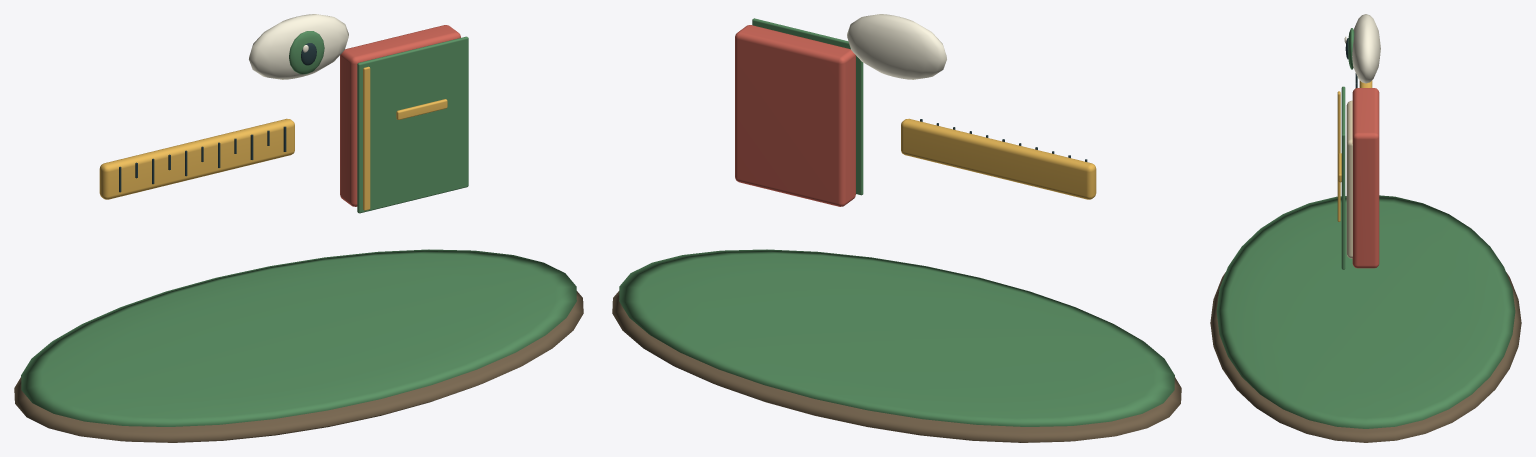
File: complete-second-science-learning.glb
The picture shows the model from 3 angles, left to right: view 1: azimuth 30°, elevation 25°; view 2: azimuth 150°, elevation 25°; view 3: azimuth 270°, elevation 25°; orthographic projection. The views are drawn at different scales.
Parts seen in each view (by area): view 1: complete-second-science-learning_surface_01, complete-second-science-learning_surface_00, complete-second-science-learning_surface_02, complete-second-science-learning_surface_04, complete-second-science-learning_surface_06, complete-second-science-learning_surface_03; view 2: complete-second-science-learning_surface_01, complete-second-science-learning_surface_04, complete-second-science-learning_surface_00, complete-second-science-learning_surface_02, complete-second-science-learning_surface_06; view 3: complete-second-science-learning_surface_01, complete-second-science-learning_surface_00, complete-second-science-learning_surface_04, complete-second-science-learning_surface_06, complete-second-science-learning_surface_05, complete-second-science-learning_surface_02.
Part boxes in pixels (x1,y1,x2,y2): complete-second-science-learning_surface_01: (21, 31, 576, 426); complete-second-science-learning_surface_00: (14, 291, 583, 442); complete-second-science-learning_surface_02: (99, 66, 447, 210); complete-second-science-learning_surface_04: (340, 25, 460, 206); complete-second-science-learning_surface_06: (249, 14, 348, 79); complete-second-science-learning_surface_03: (119, 43, 316, 192); complete-second-science-learning_surface_01: (619, 18, 1174, 426); complete-second-science-learning_surface_04: (735, 25, 855, 206); complete-second-science-learning_surface_00: (612, 291, 1181, 442); complete-second-science-learning_surface_02: (901, 118, 1096, 199); complete-second-science-learning_surface_06: (847, 14, 946, 79); complete-second-science-learning_surface_01: (1216, 28, 1515, 428); complete-second-science-learning_surface_00: (1210, 272, 1521, 442); complete-second-science-learning_surface_04: (1352, 88, 1379, 268); complete-second-science-learning_surface_06: (1344, 14, 1380, 83); complete-second-science-learning_surface_05: (1346, 100, 1352, 258); complete-second-science-learning_surface_02: (1337, 80, 1372, 221).
Bounding box in the file's own units: 4.56 × 2.8 × 2.5.
